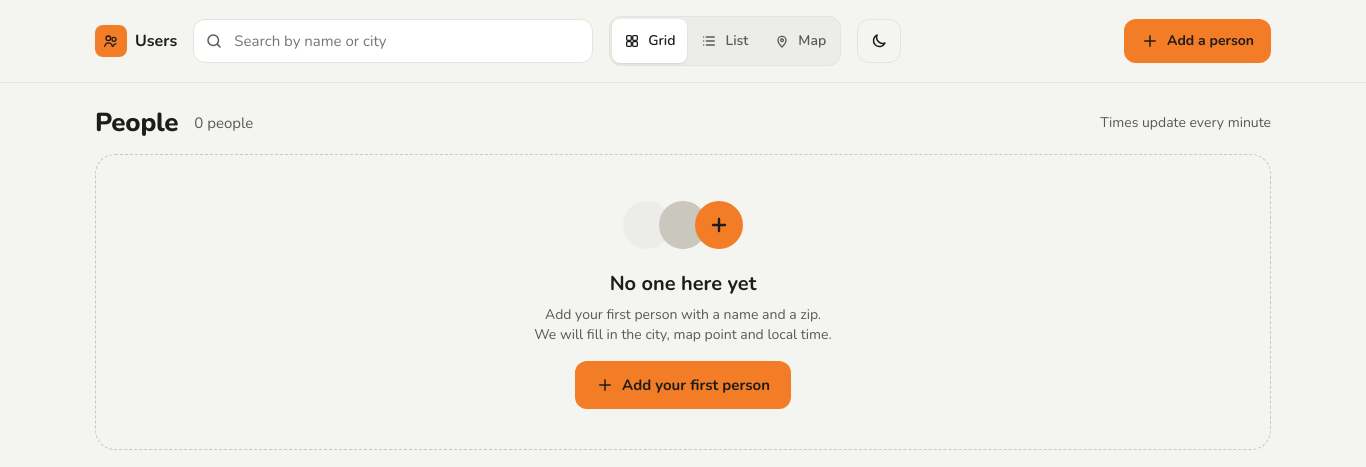
App › empty state invites the first person
Expected: the heading "No one here yet" is shown, [610,271,756,297]
Step 1. Click the button "Add your first person" → (683, 385), box [575,361,791,409]
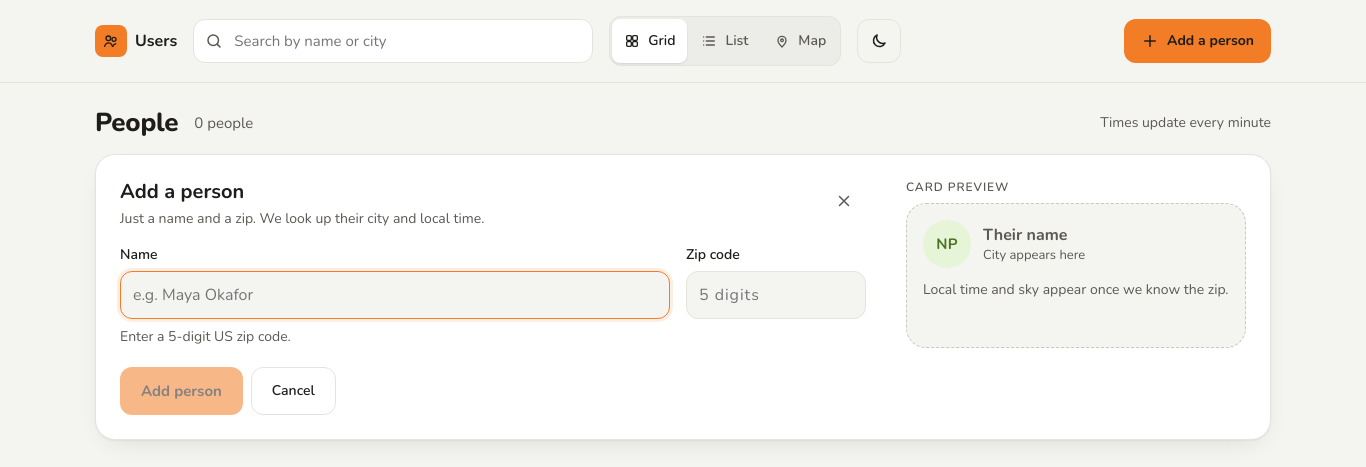
Result: the element "Add a person" is shown at [95,154,1271,440]
